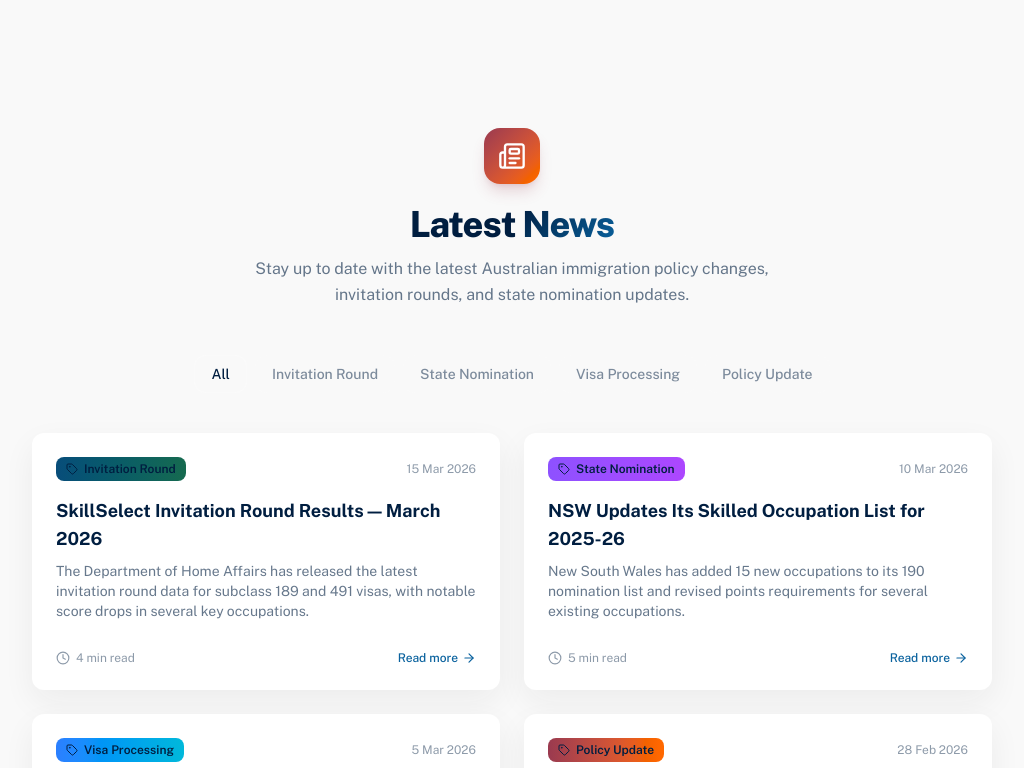
Test case: NewsPage › filters posts by category
Click the button "Visa Processing". click: point(628, 374)
box: [559, 355, 697, 393]
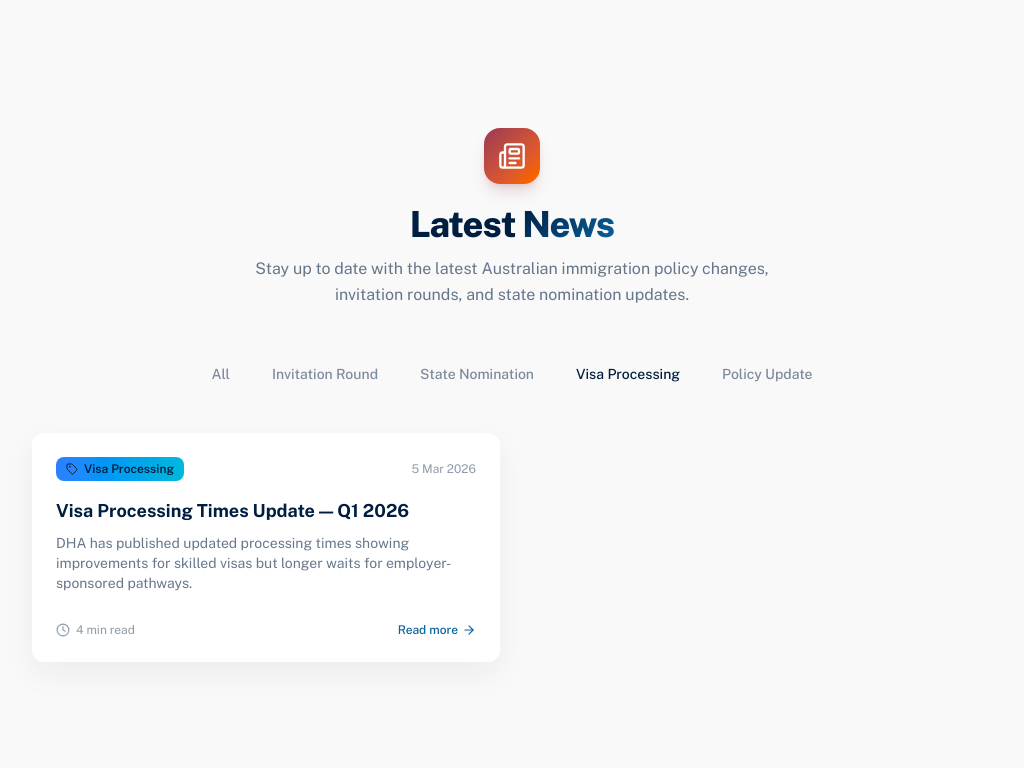
Expected: the heading "Visa Processing Times Update — Q1 2026" is shown, [56, 500, 409, 521]
Expected: the link "SkillSelect Invitation Round Results" is gone
